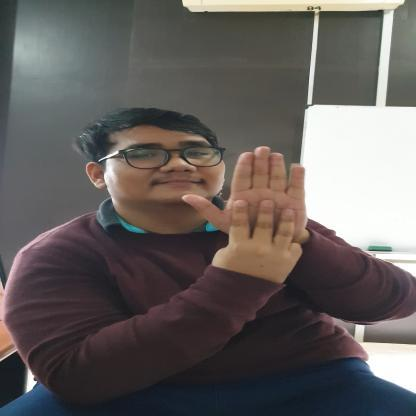M: (180, 145, 311, 261)
